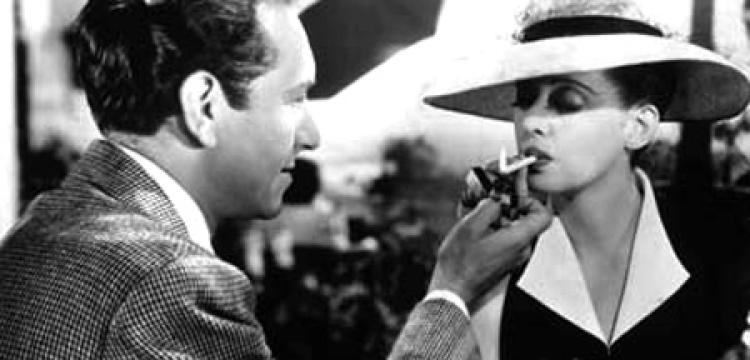cigarette: (497, 158, 546, 173)
